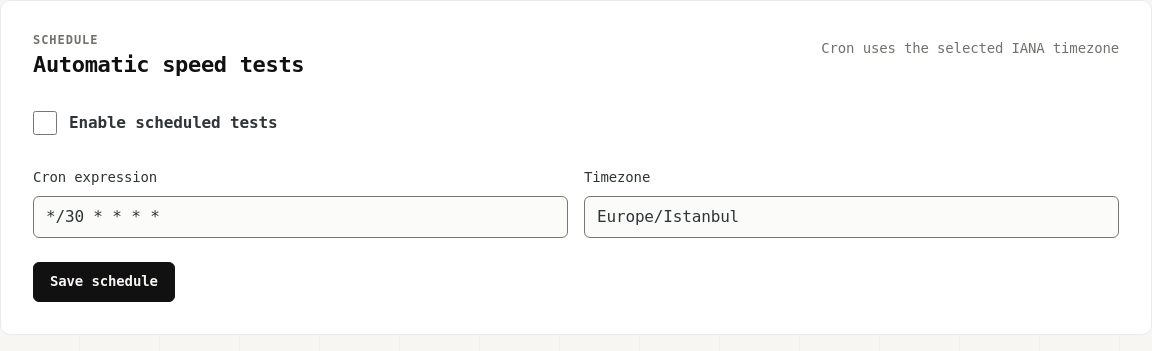
Test case: schedule settings › saves the enabled schedule with the edited cron expression and timezone
Click the checkbox labelled "Enable scheduled tests".
click(45, 123)  # box x1=33 y1=111 x2=57 y2=135
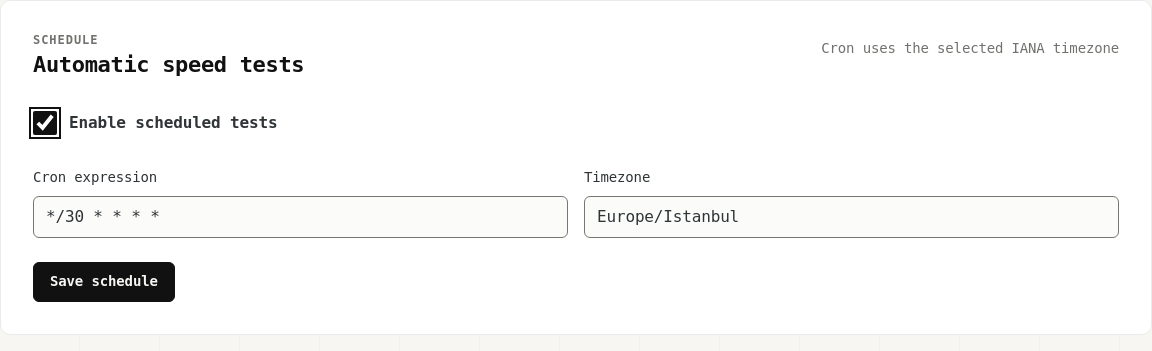
Type "0 * * * *" into the field labelled "Cron expression".
click(300, 217); type("0 * * * *")  # box x1=33 y1=196 x2=568 y2=238
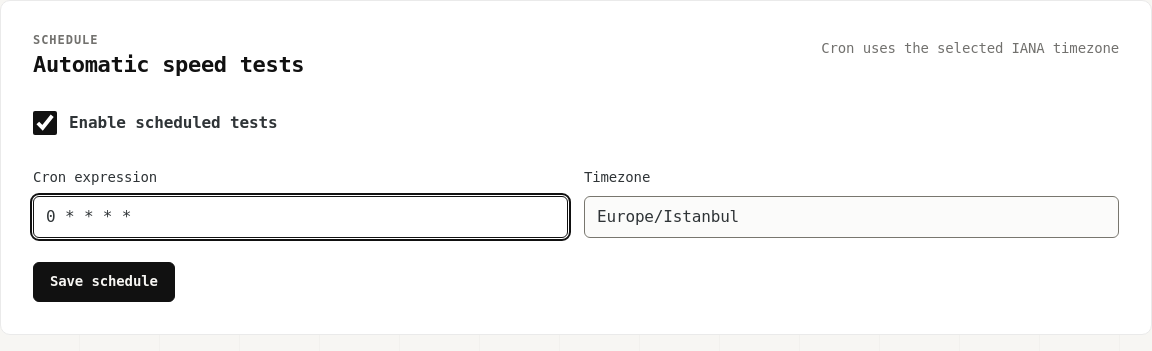
Type "Asia/Tokyo" into the field labelled "Timezone".
click(852, 217); type("Asia/Tokyo")  # box x1=584 y1=196 x2=1119 y2=238
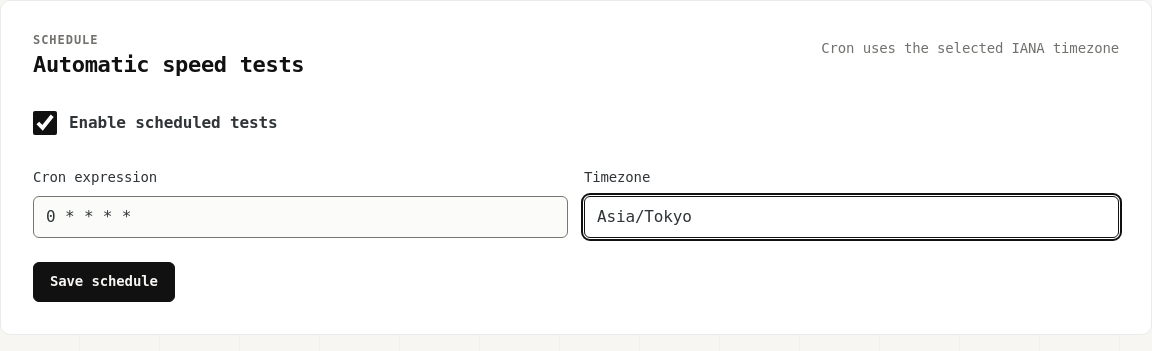
Click the button "Save schedule".
click(104, 282)  # box x1=33 y1=262 x2=175 y2=302
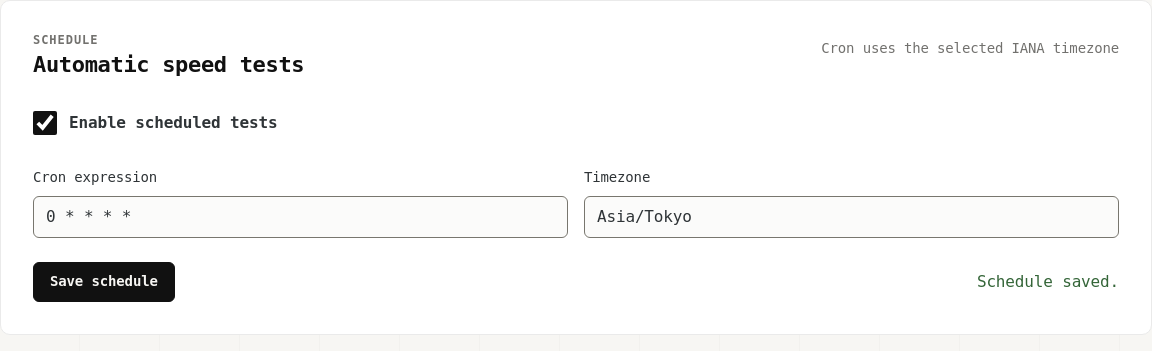
Expected: the text "Schedule saved." is shown, x1=977 y1=270 x2=1119 y2=294
